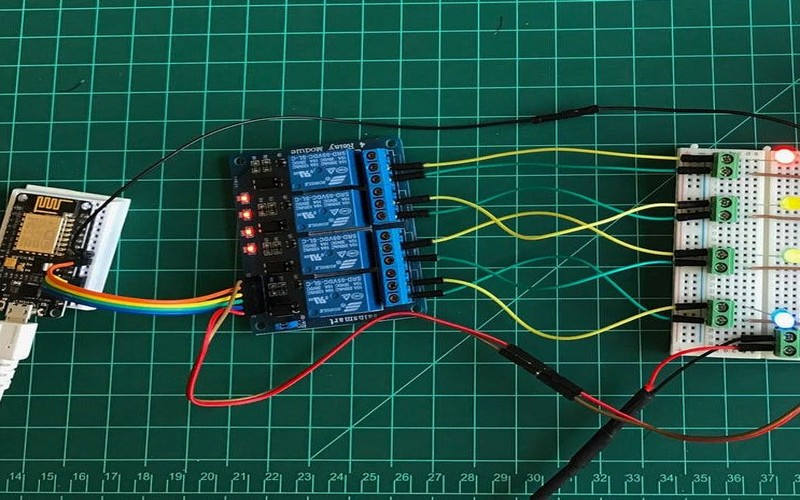Cirtuit-Board: (658, 131, 800, 378)
IoT Sensor: (211, 130, 454, 339)
